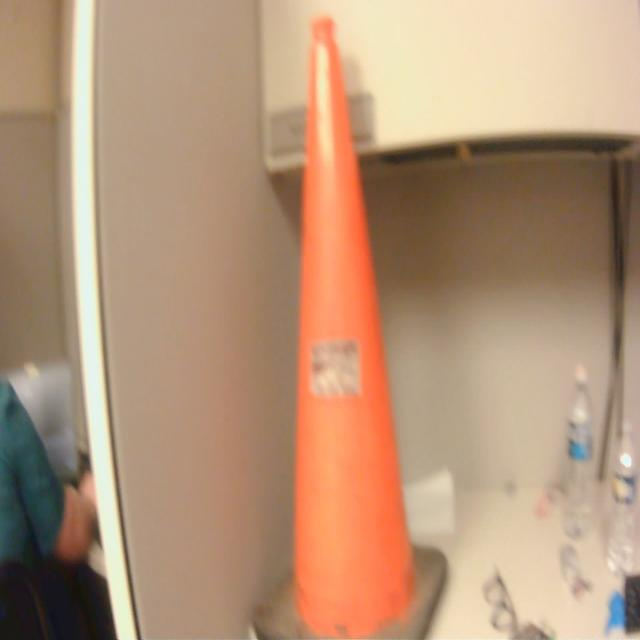traffic cone: (248, 12, 453, 640)
